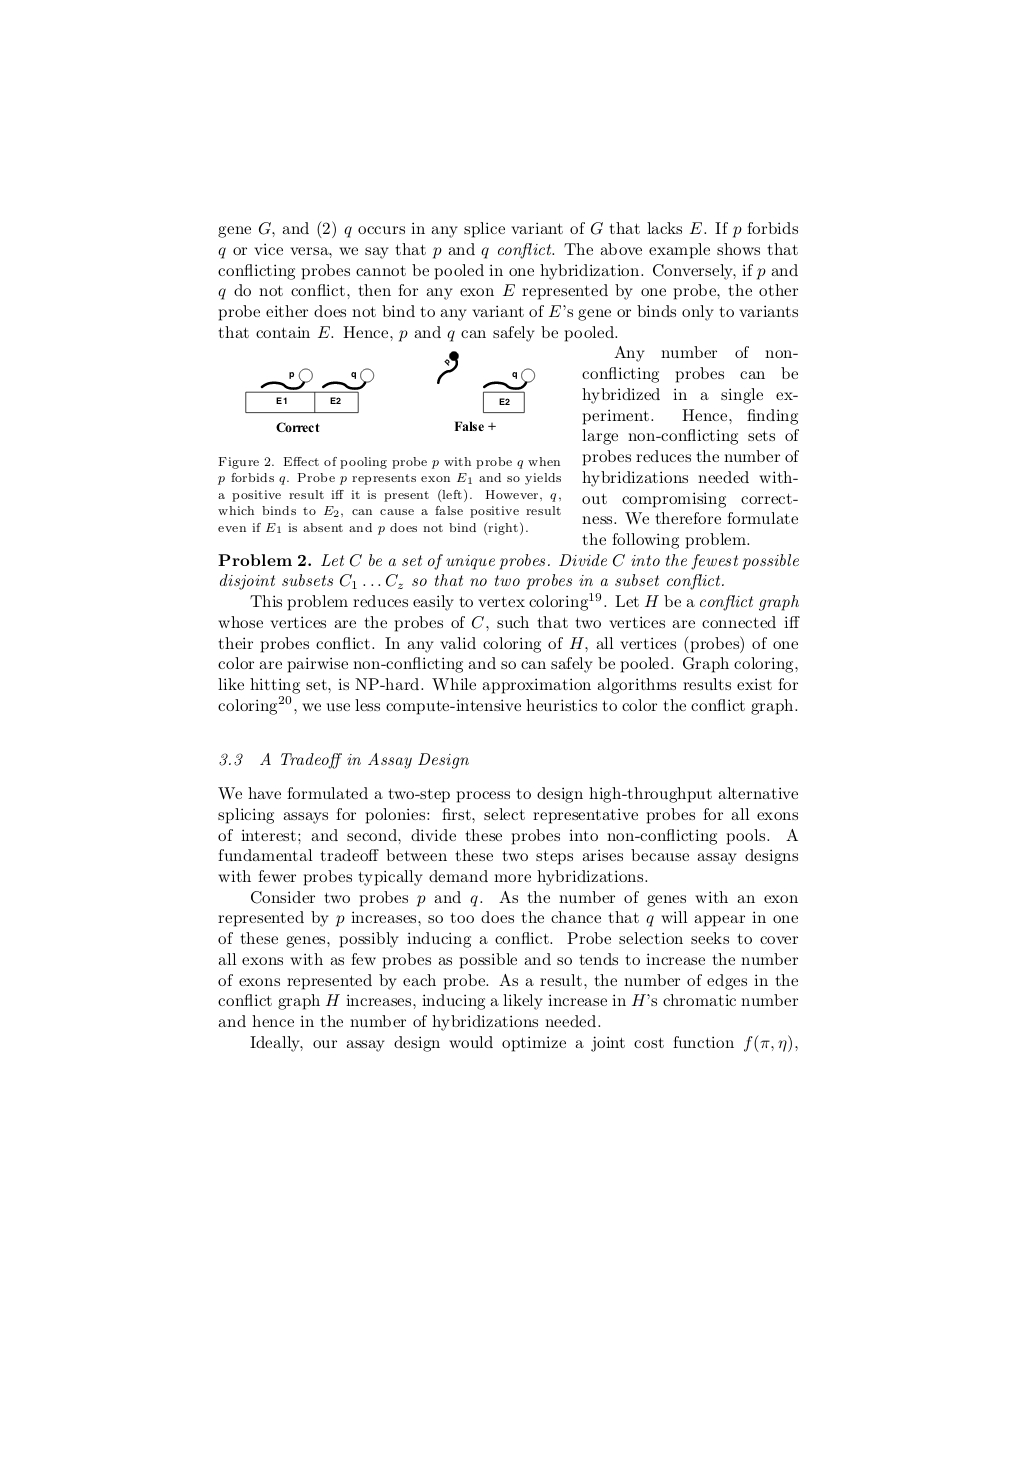figure: (245, 351, 535, 432)
